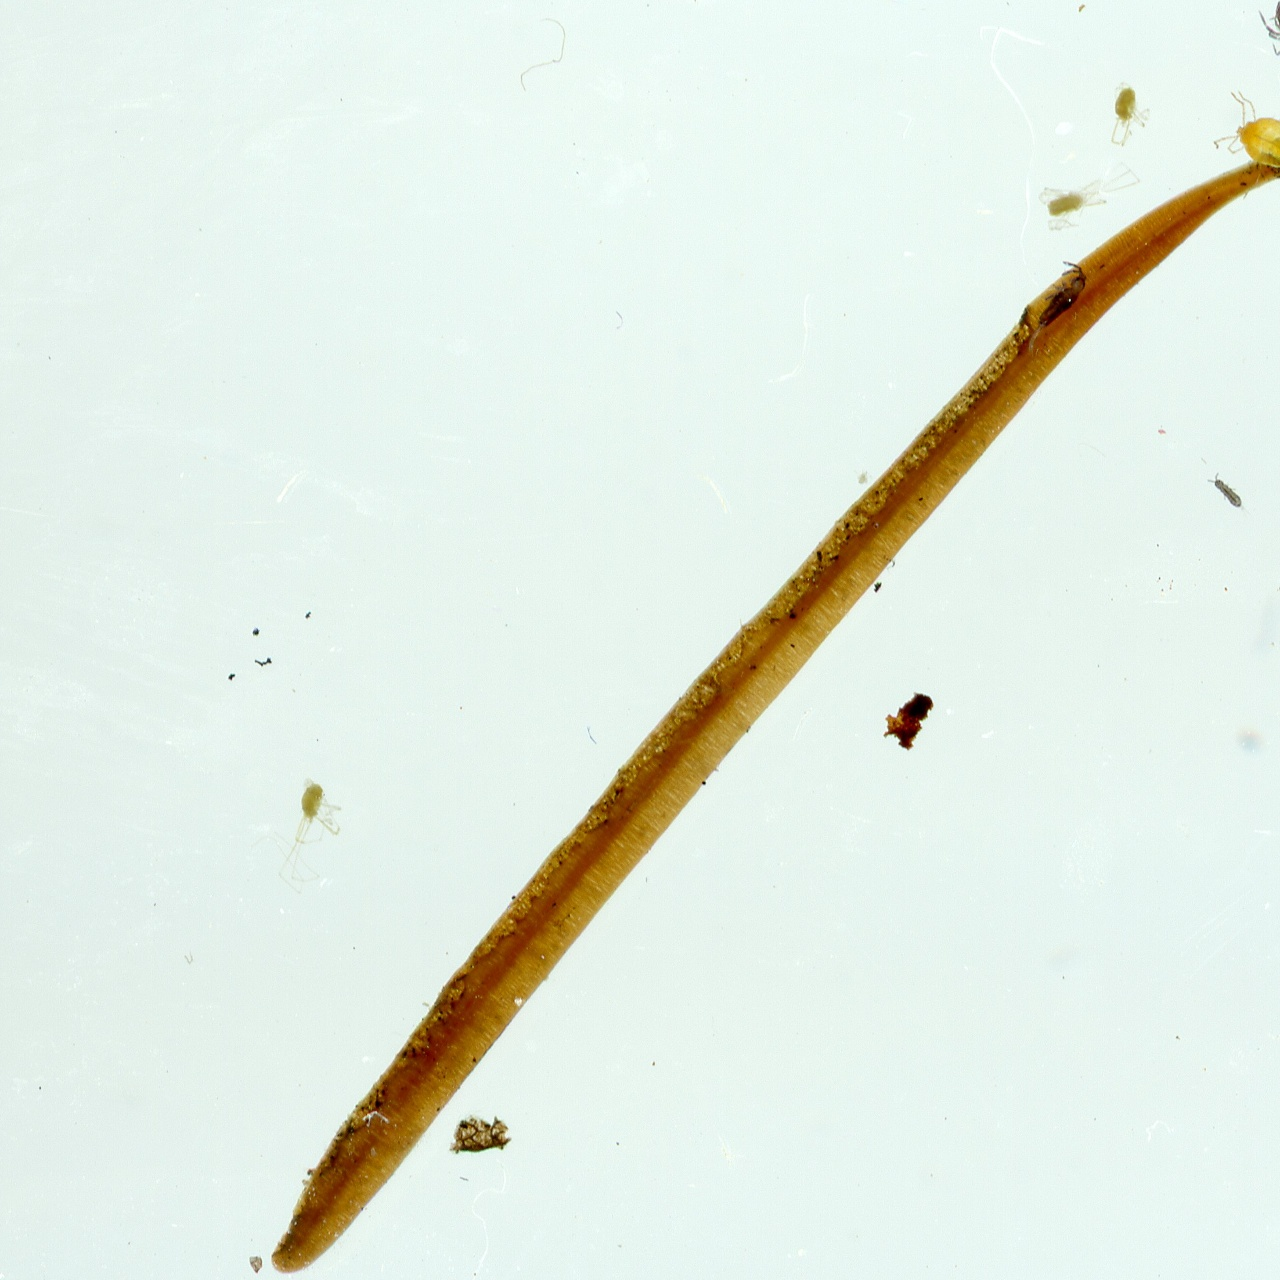arthropod: (236, 762, 359, 907), (1037, 161, 1143, 233), (1213, 89, 1280, 200), (1108, 81, 1157, 149), (1258, 0, 1280, 89), (1207, 471, 1247, 513)
